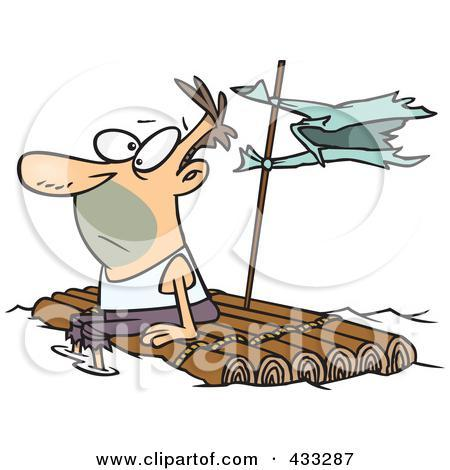person: (15, 69, 228, 385)
